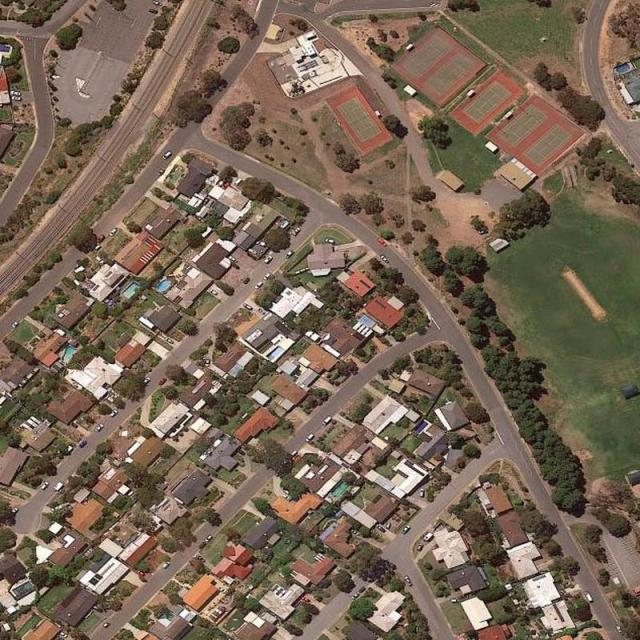vehicle: (319, 414, 333, 426), (582, 590, 594, 602), (402, 574, 414, 586), (161, 149, 172, 160), (422, 531, 434, 541), (106, 409, 118, 418), (284, 249, 294, 259), (378, 253, 388, 263), (156, 166, 167, 175), (252, 280, 264, 288), (264, 254, 273, 264), (208, 286, 218, 295), (108, 226, 116, 237), (93, 422, 104, 430), (39, 482, 50, 490), (400, 525, 409, 534), (377, 238, 387, 246), (304, 434, 314, 442), (242, 302, 252, 310), (228, 255, 238, 263), (323, 235, 334, 242), (205, 534, 214, 542), (377, 524, 386, 532), (148, 7, 158, 14), (10, 90, 21, 96), (262, 272, 270, 280), (142, 375, 150, 383), (414, 542, 422, 550), (78, 441, 87, 448), (163, 561, 170, 570), (418, 487, 424, 497), (11, 96, 21, 102), (158, 378, 166, 385), (11, 507, 18, 515), (616, 624, 622, 633), (152, 1, 162, 6), (12, 321, 19, 328), (60, 631, 67, 638), (102, 622, 110, 628), (166, 338, 174, 344), (351, 593, 359, 599), (358, 587, 365, 593), (205, 358, 210, 366)
